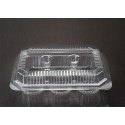PlasticBox: (8, 45, 114, 98)
